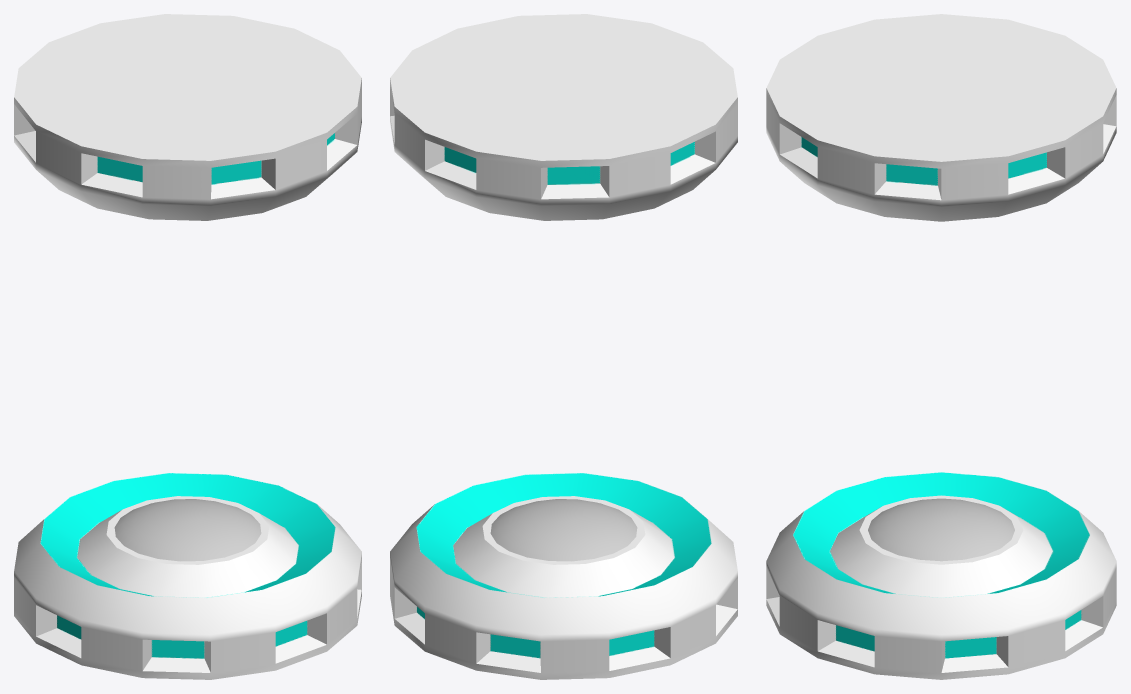
File: Flip gate.fbx
The picture shows the model from 3 angles, left to right: view 1: azimuth 30°, elevation 25°; view 2: azimuth 150°, elevation 25°; view 3: azimuth 270°, elevation 25°; orthographic projection.
Parts seen in each view (by area): view 1: Flip_top2; view 2: Flip_top2; view 3: Flip_top2.
Part boxes in pixels (x1,y1,x2,y2): Flip_top2: (14,14,361,679); Flip_top2: (390,14,737,679); Flip_top2: (766,14,1116,679).
Bounding box in the file's own units: 135 × 220 × 135.
